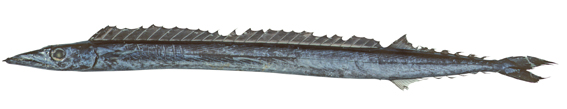fish: (3, 25, 560, 90)
